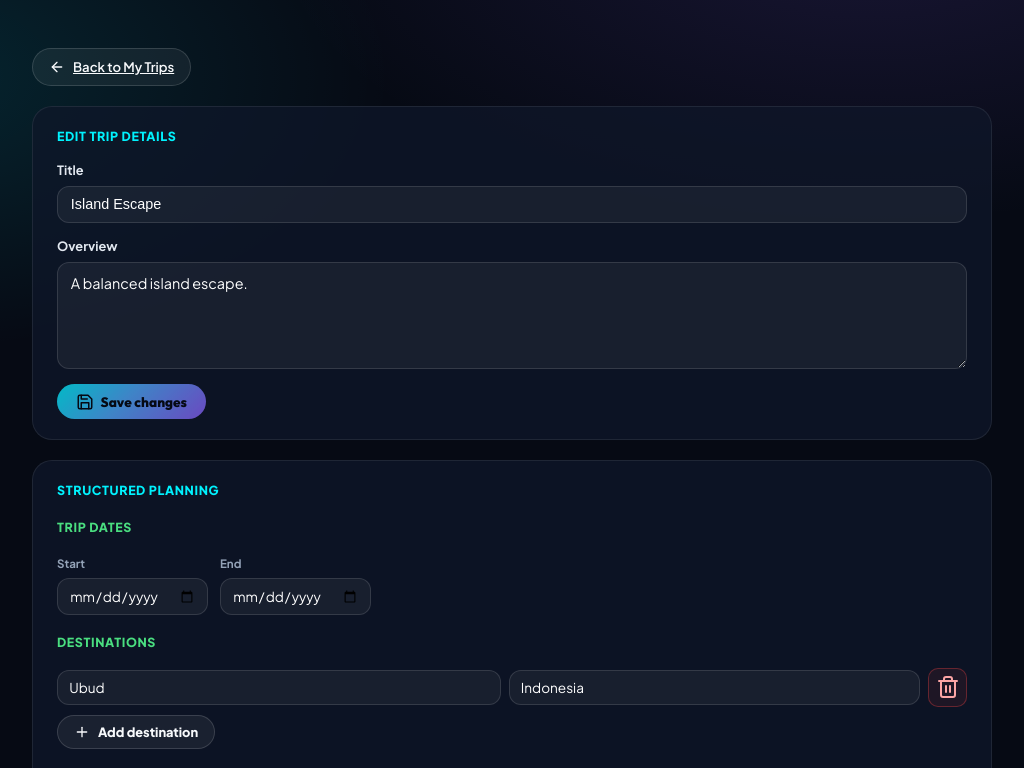
Scenario: TripWorkspacePage editing boundary › saves an edited title and overview via updateTrip and reflects the saved trip
This screenshot has width=1024, height=768.
Clear the field labelled "Title" at (512, 204), box [57,186,967,223]
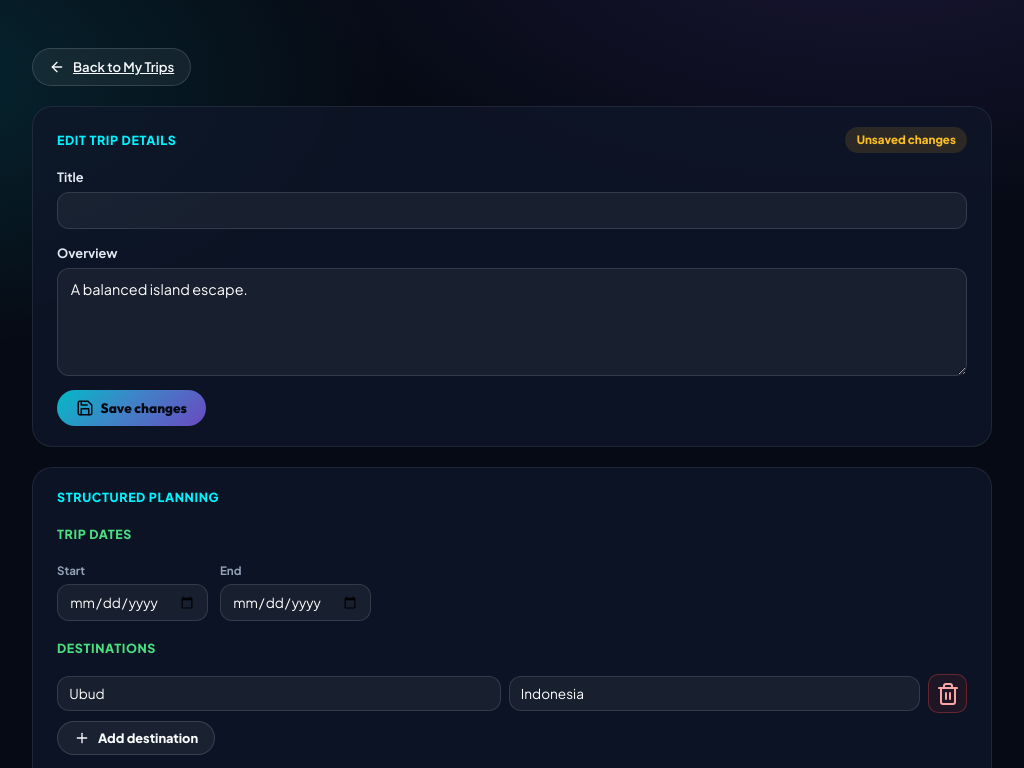
Type "Island Rewrite" into the field labelled "Title" at (512, 211), box [57,192,967,229]
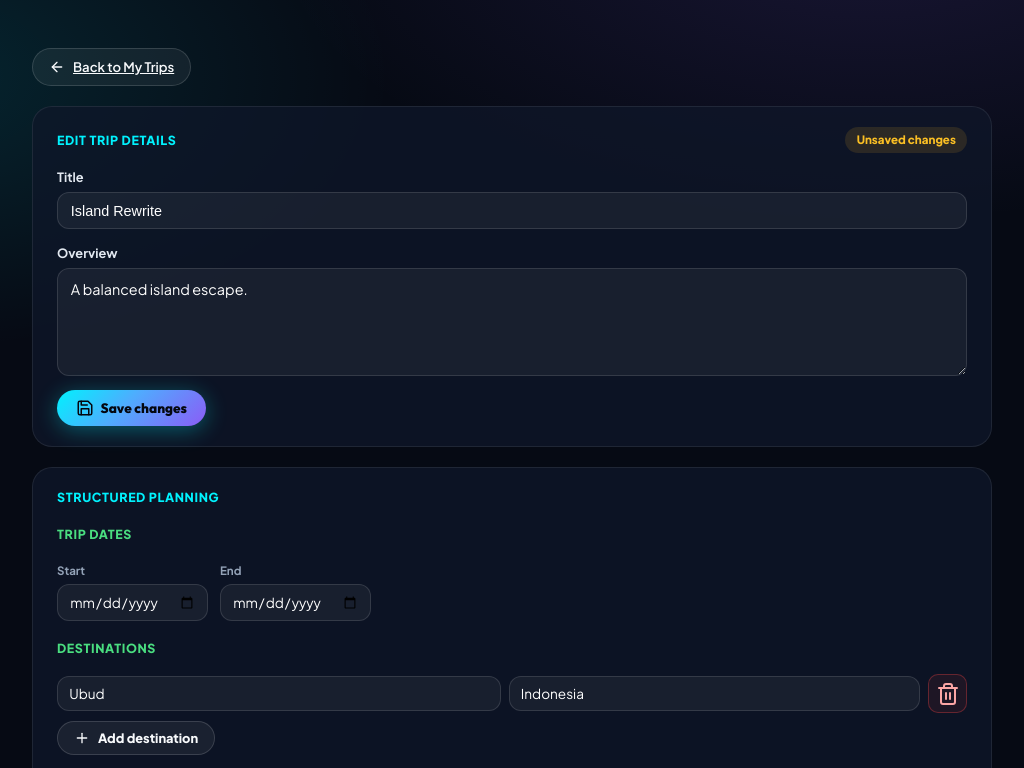
Replace the text in the text box labelled "Overview" with "A refreshed island escape." at (512, 322), box [57,268,967,376]
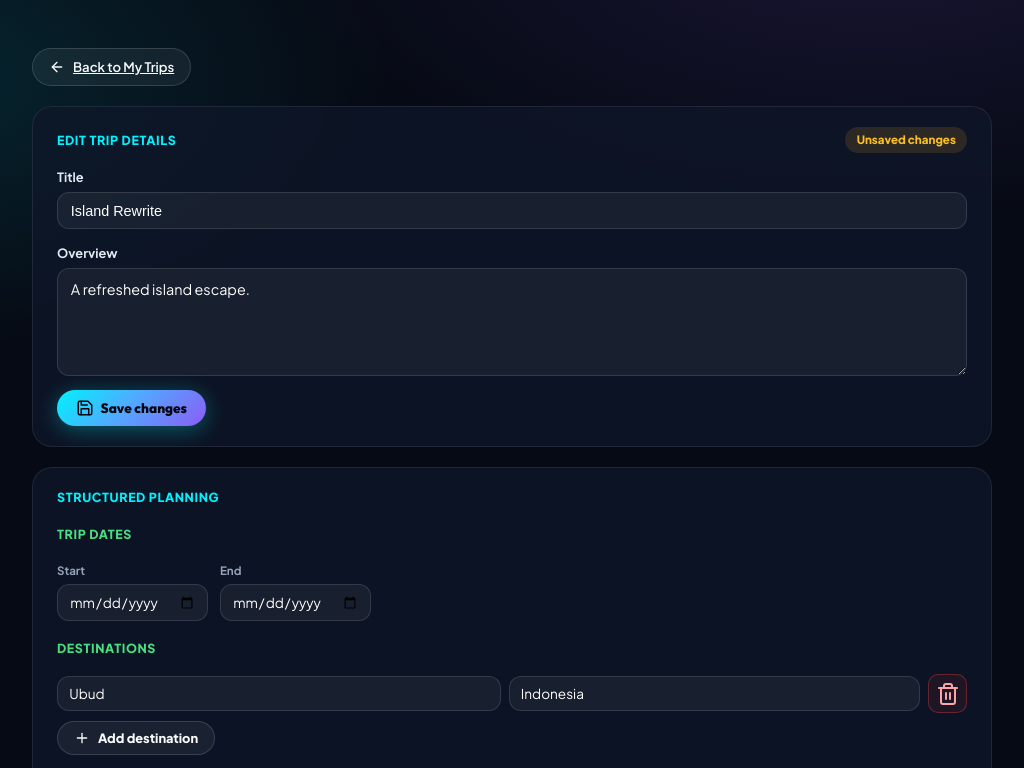
Click the button "Save changes" at (132, 408), box [57,390,206,426]
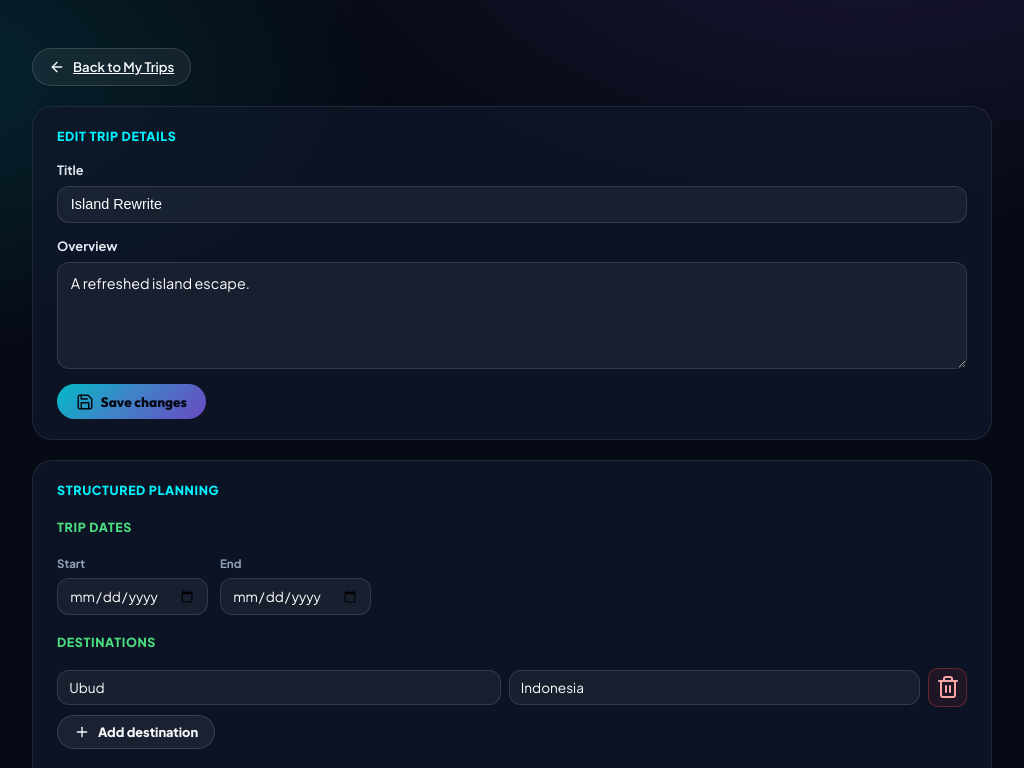
Now the text "Unsaved changes" is gone
Now the button "Save changes" is disabled, box [57,384,206,419]
